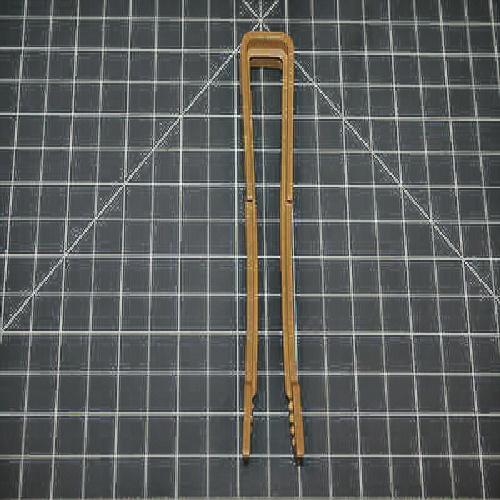toaster: (234, 29, 311, 464)
